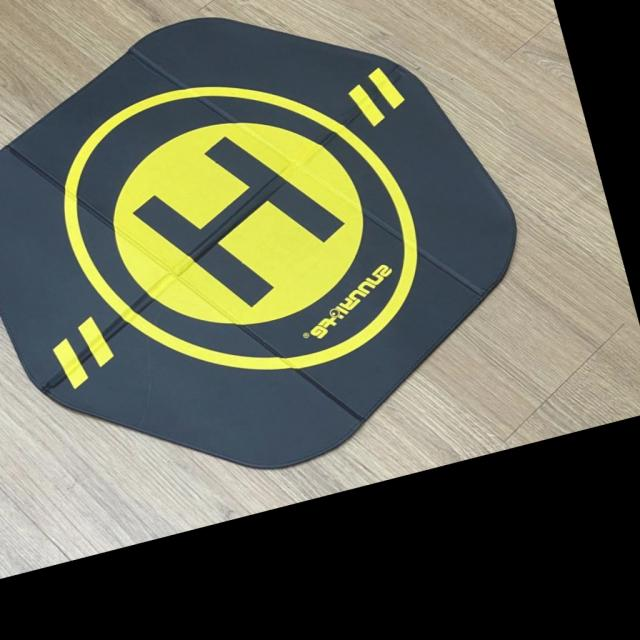helipad: (61, 80, 420, 372)
